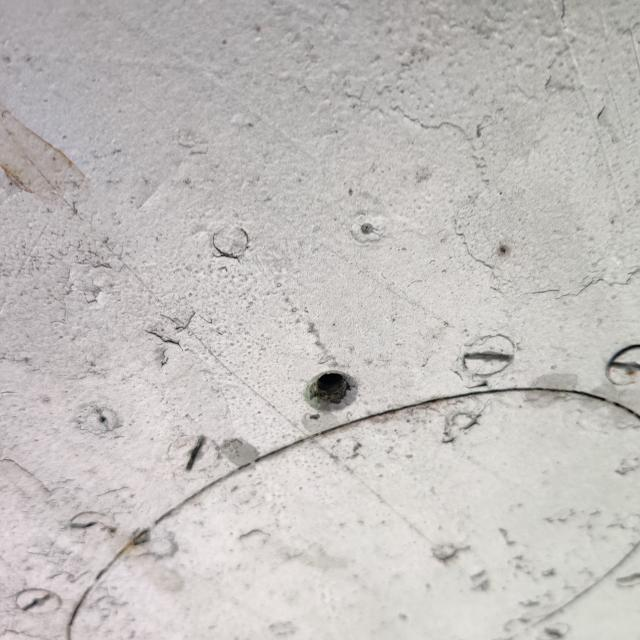missing-head: (271, 335, 395, 454)
